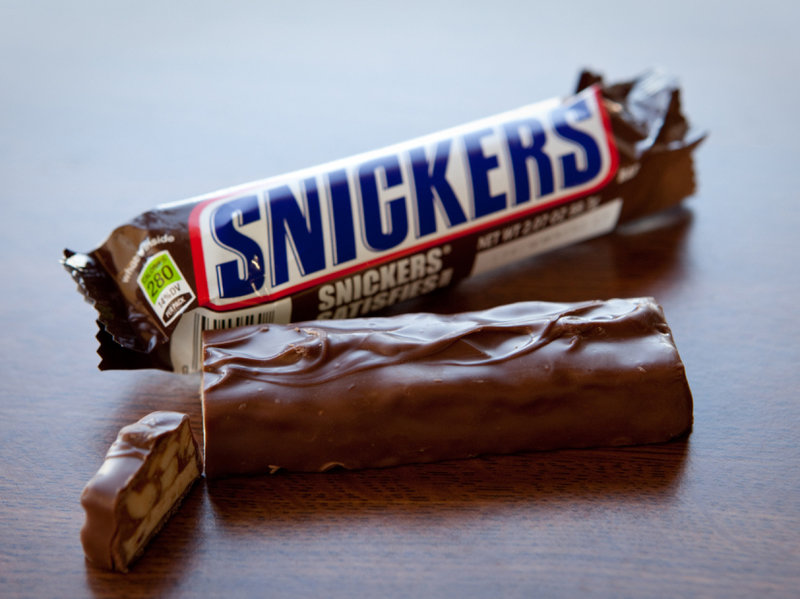snickers: (50, 66, 698, 317)
